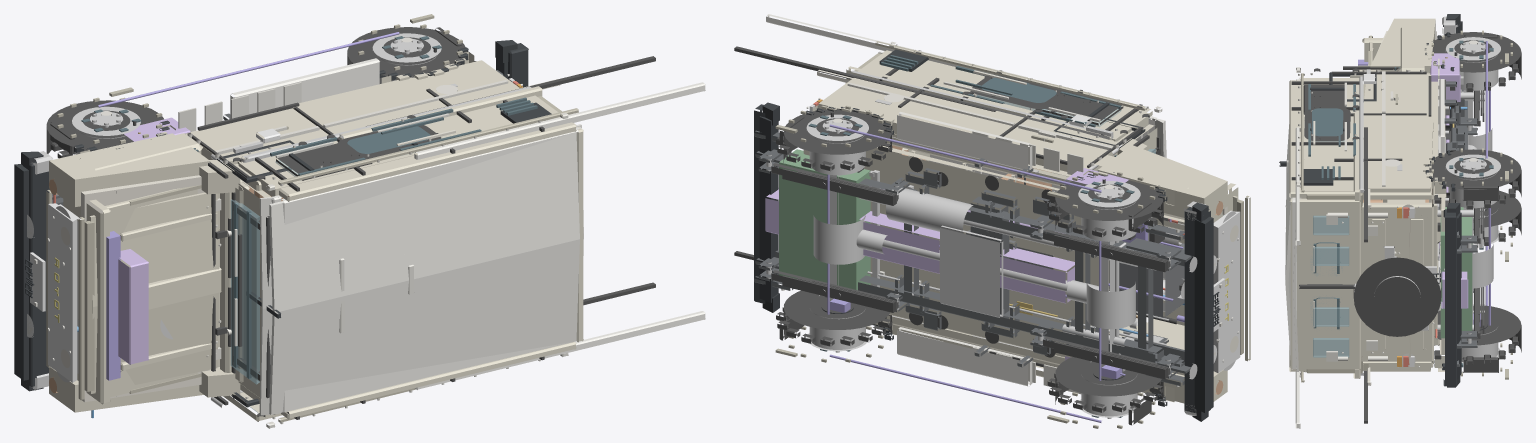
File: j40_full_vehicle_scaffold_rev_c_lhd_review.gltf
3 renders of one model, left to right at view 1: azimuth 30°, elevation 25°; view 2: azimuth 150°, elevation 25°; view 3: azimuth 270°, elevation 25°, orthographic. The views are drawn at different scales.
Parts seen in each view (by area): view 1: white_hardtop_crowned_roof_skin, hood_crowned_closed_skin, white_hardtop_roof, right_rear_quarter_waist_tapered_surface, right_front_fender_sloped_outer_skin, front_grille_inset_rounded_surround_surface, windshield_raked_glass_surface, right_hardtop_side_panel, fan_radiator_clearance_envelope, right_door_outer_skin_tapered_surface, front_bumper_swept_main_face, right_hardtop_side_tapered_upper_skin (+39 smaller); view 2: floor_pan, rear_underfloor_fuel_tank, skid_plate_transfer_case, right_rear_quarter_waist_tapered_surface, front_bumper_swept_main_face, right_side_step_board, left_frame_rail, left_side_step_board, front_grille_inset_rounded_surround_surface, right_front_fender_sloped_outer_skin, right_hardtop_side_tapered_upper_skin, rear_prop_shaft_clearance_tunnel (+55 smaller); view 3: rear_hardtop_panel, rear_spare_tire, right_rear_quarter_waist_tapered_surface, tailgate_panel, right_hardtop_side_tapered_upper_skin, right_door_outer_skin_tapered_surface, rear_bumper, rear_right_tire_tire, right_front_fender_sloped_outer_skin, front_right_tire_tire, rear_underfloor_fuel_tank, rear_left_tire_tire (+53 smaller).
Boxes of the visible parts, x1,y1,x2,y2 form: white_hardtop_crowned_roof_skin: [269, 132, 579, 414]; hood_crowned_closed_skin: [89, 192, 219, 393]; white_hardtop_roof: [281, 126, 583, 412]; right_rear_quarter_waist_tapered_surface: [293, 60, 519, 133]; right_front_fender_sloped_outer_skin: [49, 133, 210, 206]; front_grille_inset_rounded_surround_surface: [48, 203, 77, 382]; windshield_raked_glass_surface: [230, 199, 259, 384]; right_hardtop_side_panel: [279, 97, 576, 201]; fan_radiator_clearance_envelope: [118, 249, 148, 364]; right_door_outer_skin_tapered_surface: [185, 108, 328, 164]; front_bumper_swept_main_face: [14, 164, 28, 380]; right_hardtop_side_tapered_upper_skin: [238, 95, 558, 197]; floor_pan: [803, 146, 1109, 357]; rear_underfloor_fuel_tank: [779, 149, 870, 290]; skid_plate_transfer_case: [940, 225, 1003, 317]; right_rear_quarter_waist_tapered_surface: [818, 78, 1023, 138]; front_bumper_swept_main_face: [1194, 216, 1213, 412]; right_side_step_board: [897, 111, 1032, 170]; left_frame_rail: [858, 275, 1163, 362]; left_side_step_board: [897, 327, 1032, 386]; front_grille_inset_rounded_surround_surface: [1213, 211, 1240, 373]; right_front_fender_sloped_outer_skin: [1097, 145, 1227, 217]; right_hardtop_side_tapered_upper_skin: [858, 51, 1148, 141]; rear_prop_shaft_clearance_tunnel: [765, 188, 939, 273]; rear_hardtop_panel: [1289, 198, 1360, 369]; rear_spare_tire: [1353, 257, 1441, 336]; right_rear_quarter_waist_tapered_surface: [1363, 114, 1433, 192]; tailgate_panel: [1361, 202, 1433, 361]; right_hardtop_side_tapered_upper_skin: [1303, 78, 1363, 199]; right_door_outer_skin_tapered_surface: [1363, 73, 1430, 114]; rear_bumper: [1443, 209, 1456, 386]; rear_right_tire_tire: [1429, 149, 1521, 196]; right_front_fender_sloped_outer_skin: [1370, 18, 1435, 73]; front_right_tire_tire: [1432, 32, 1521, 79]; rear_underfloor_fuel_tank: [1440, 207, 1472, 338]; rear_left_tire_tire: [1434, 305, 1521, 352].
Bounding box in the file's own units: 4.47 × 1.96 × 1.99.
